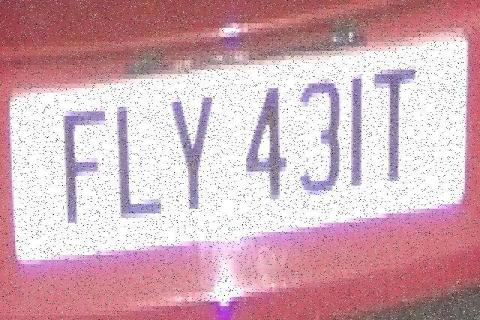LicensePlate: (6, 7, 472, 285)
